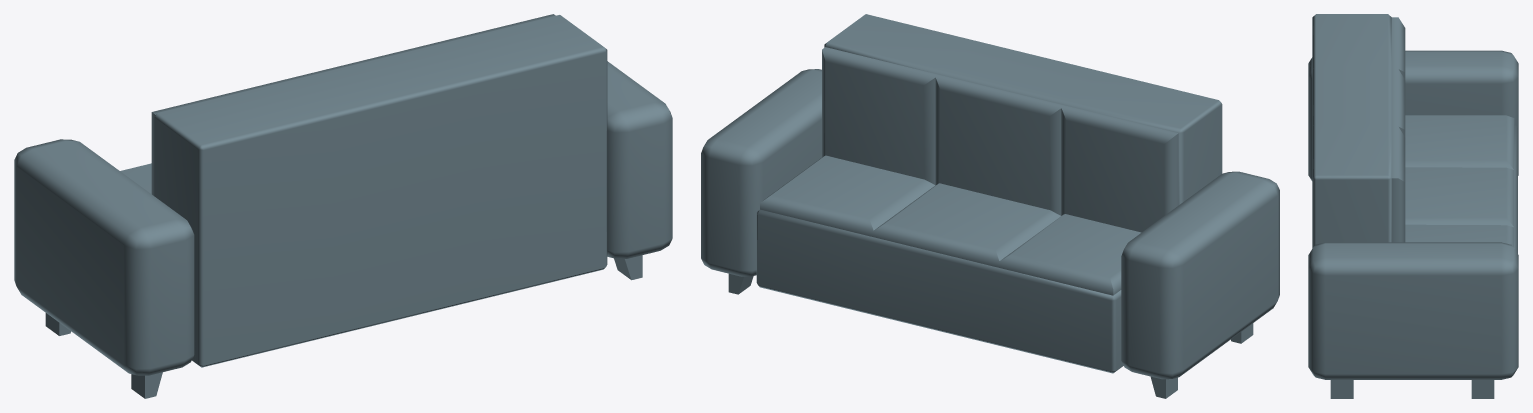
Rendered from Couch.fbx.
The picture shows the model from 3 angles, left to right: view 1: azimuth 30°, elevation 25°; view 2: azimuth 150°, elevation 25°; view 3: azimuth 270°, elevation 25°; orthographic projection. The views are drawn at different scales.
Parts seen in each view (by area): view 1: c_01, c_04, c_03, c_08; view 2: c_01, c_02, c_04, c_03; view 3: c_03, c_01, c_02, c_04, c_05, c_06.
Part boxes in pixels (box(x1,y1,x2,y2)): c_01: box(151, 14, 607, 367); c_04: box(14, 139, 194, 375); c_03: box(607, 61, 672, 258); c_08: box(131, 372, 162, 398); c_01: box(822, 14, 1222, 232); c_02: box(756, 155, 1141, 373); c_04: box(1121, 171, 1279, 379); c_03: box(701, 69, 821, 276); c_03: box(1308, 242, 1518, 379); c_01: box(1312, 14, 1405, 248); c_02: box(1405, 115, 1517, 253); c_04: box(1308, 50, 1518, 180); c_05: box(1330, 380, 1353, 398); c_06: box(1471, 380, 1494, 398).
Bounding box in the file's own units: 29.72 × 12.94 × 12.05.
